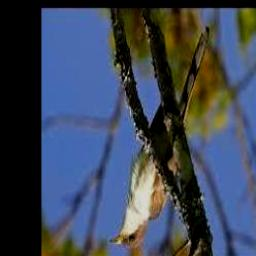Cuckoo: (108, 27, 209, 248)
